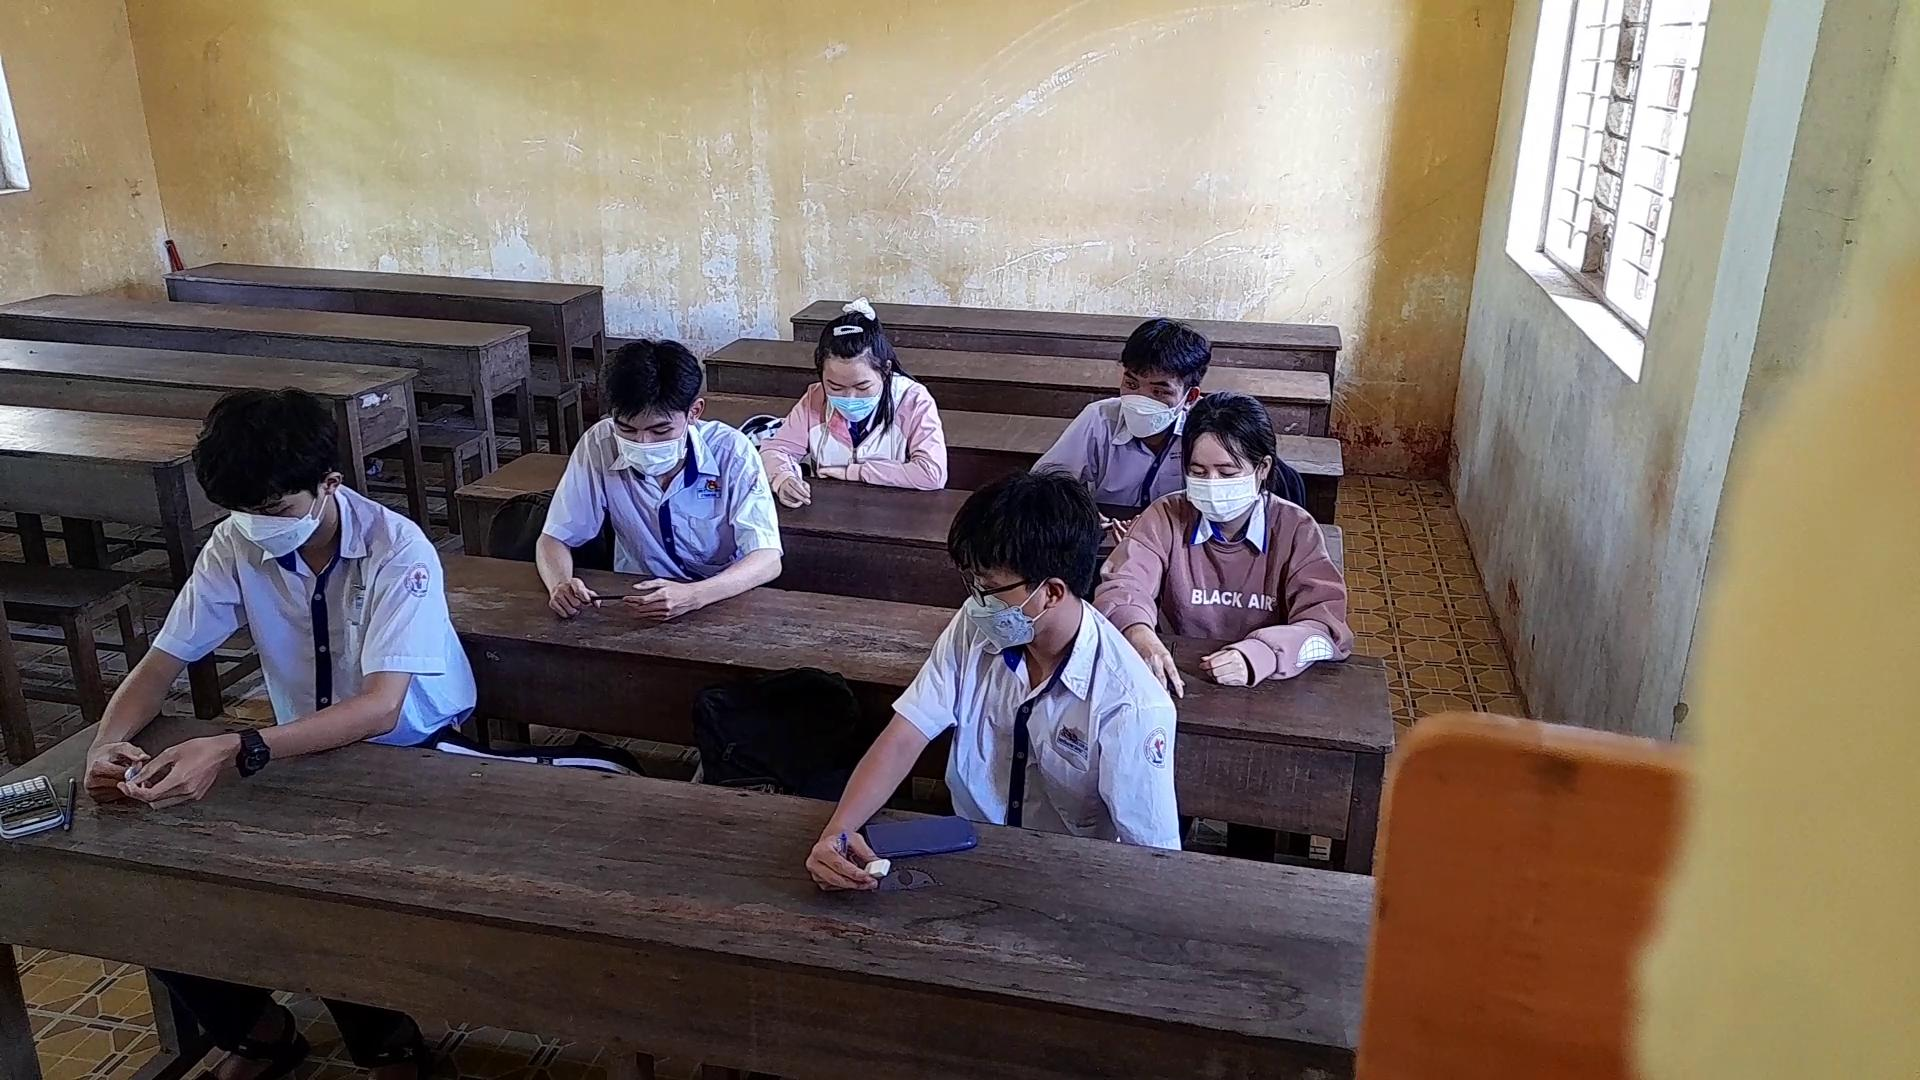Hand Under Table: (1085, 675, 1205, 857)
Look Around: (926, 465, 1109, 661)
Normal: (75, 360, 487, 818), (1102, 382, 1366, 682), (526, 324, 789, 625), (749, 244, 1011, 545)
